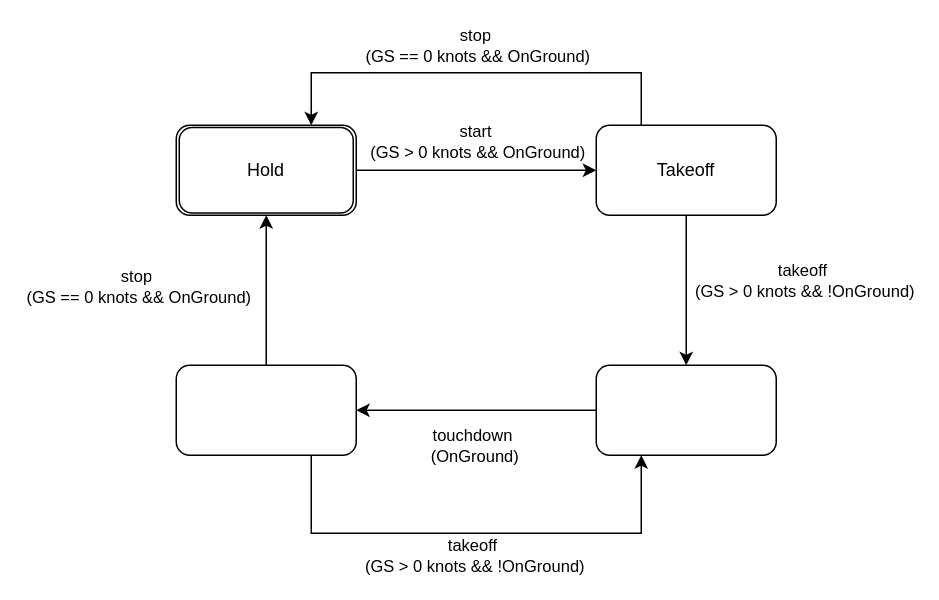
This 939x600 diagram has some shape labels left out. The centre of each missing label's shape, as x and y in pixels:
Fly: (x=685, y=409)
Rollout: (x=265, y=409)
